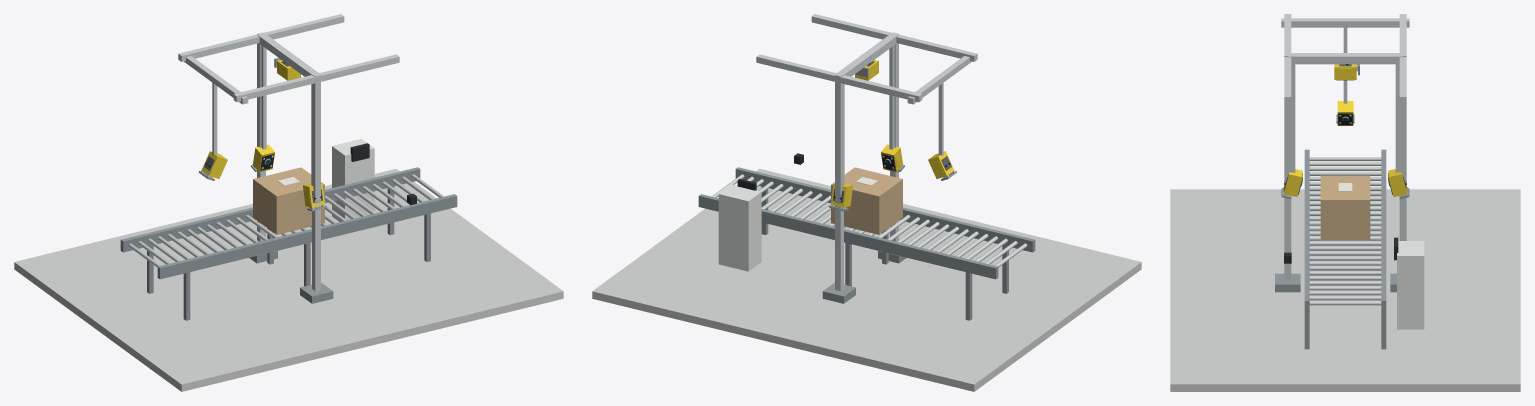
The picture shows the model from 3 angles, left to right: view 1: azimuth 30°, elevation 25°; view 2: azimuth 150°, elevation 25°; view 3: azimuth 270°, elevation 25°; orthographic projection. The views are drawn at different scales.
Visible parts, largest first — view 1: Floor, Conveyor side rail, Parcel, Conveyor side rail.001, Control cabinet, Extrusion upright, Longitudinal top frame, Longitudinal top frame.001, Overhead crossbeam, End-face sensor bracket, Extrusion upright.001, Suspended sensor mount.001; view 2: Floor, Conveyor side rail.001, Control cabinet, Parcel, Conveyor side rail, Extrusion upright.001, Longitudinal top frame.001, Longitudinal top frame, Overhead crossbeam, End-face sensor bracket, Extrusion upright, Suspended sensor mount; view 3: Floor, Parcel, Control cabinet, Overhead crossbeam, Extrusion upright, End-face sensor bracket, Conveyor side rail, Conveyor side rail.001, Extrusion upright.001, Longitudinal top frame, Longitudinal top frame.001, Suspended sensor mount (+19 smaller).
Boxes of the visible parts, left/top/right/bottom form: Floor: left=14, top=169, right=563, bottom=391; Conveyor side rail: left=157, top=194, right=457, bottom=279; Parcel: left=253, top=167, right=324, bottom=234; Conveyor side rail.001: left=120, top=167, right=420, bottom=252; Control cabinet: left=332, top=139, right=374, bottom=221; Extrusion upright: left=312, top=74, right=320, bottom=291; Longitudinal top frame: left=233, top=54, right=399, bottom=102; Longitudinal top frame.001: left=178, top=14, right=344, bottom=61; Overhead crossbeam: left=258, top=33, right=319, bottom=76; End-face sensor bracket: left=184, top=56, right=248, bottom=104; Extrusion upright.001: left=257, top=32, right=265, bottom=241; Suspended sensor mount.001: left=261, top=45, right=266, bottom=149; Floor: left=592, top=169, right=1141, bottom=391; Conveyor side rail.001: left=698, top=194, right=998, bottom=279; Control cabinet: left=718, top=184, right=761, bottom=271; Parcel: left=831, top=167, right=902, bottom=234; Conveyor side rail: left=735, top=167, right=1035, bottom=252; Extrusion upright.001: left=835, top=74, right=843, bottom=291; Longitudinal top frame.001: left=756, top=54, right=922, bottom=102; Longitudinal top frame: left=811, top=14, right=977, bottom=61; Overhead crossbeam: left=836, top=33, right=897, bottom=76; End-face sensor bracket: left=907, top=56, right=971, bottom=104; Extrusion upright: left=890, top=32, right=898, bottom=241; Suspended sensor mount: left=889, top=45, right=894, bottom=149; Floor: left=1170, top=189, right=1520, bottom=391; Parcel: left=1320, top=175, right=1370, bottom=240; Control cabinet: left=1397, top=241, right=1424, bottom=329; Overhead crossbeam: left=1288, top=53, right=1402, bottom=64; Extrusion upright: left=1284, top=53, right=1291, bottom=280; End-face sensor bracket: left=1281, top=18, right=1409, bottom=27; Conveyor side rail: left=1304, top=149, right=1309, bottom=312; Conveyor side rail.001: left=1381, top=149, right=1386, bottom=312; Extrusion upright.001: left=1399, top=53, right=1406, bottom=240; Longitudinal top frame: left=1284, top=14, right=1291, bottom=103; Longitudinal top frame.001: left=1399, top=14, right=1406, bottom=103; Suspended sensor mount: left=1291, top=64, right=1295, bottom=172.
Size of the model in its own units: 5.4 by 3.1 by 4.1.
